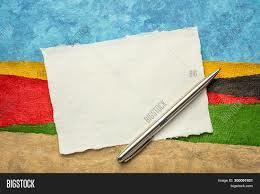pen: (114, 67, 221, 164)
